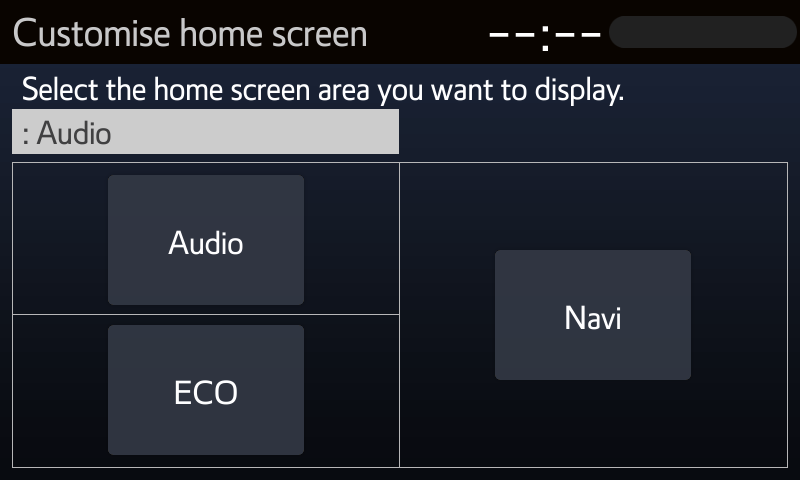untouchPart: (493, 247, 695, 384), (105, 174, 307, 308), (106, 325, 306, 458), (8, 106, 403, 155), (482, 9, 796, 55), (10, 13, 369, 50)
